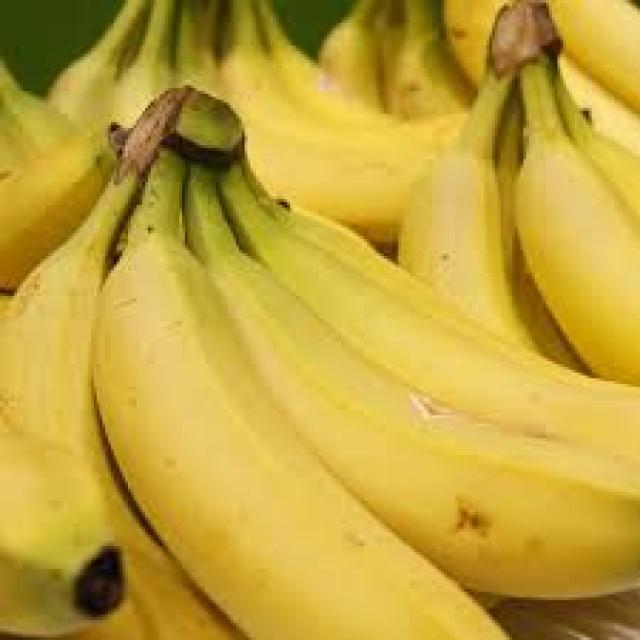Banana: (3, 88, 640, 640), (38, 0, 450, 244), (397, 3, 638, 381)
